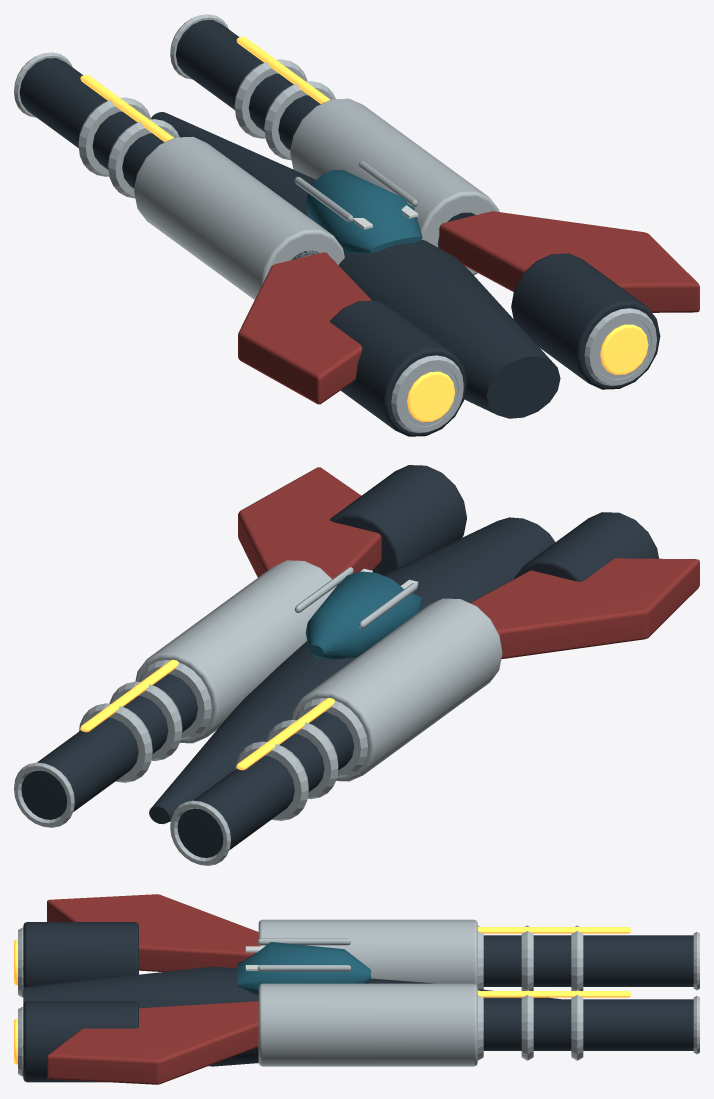
File: RailLancer.fbx
3 views of the same model, one above another, from view 1: azimuth 30°, elevation 25°; view 2: azimuth 150°, elevation 25°; view 3: azimuth 270°, elevation 25° (orthographic). The views are drawn at different scales.
Parts seen in each view (by area): view 1: Lancer center keel, Cannon cradle.016, Swept wing.021, Swept wing.020, Cannon cradle.017, Armored engine housing.010, Armored engine housing.009, Barrel shroud.017, Barrel shroud.016, Obsidian observation canopy.004, Recessed ion exhaust.010, Recessed ion exhaust.009 (+12 smaller); view 2: Cannon cradle.016, Lancer center keel, Swept wing.020, Cannon cradle.017, Swept wing.021, Barrel shroud.016, Barrel shroud.017, Armored engine housing.010, Obsidian observation canopy.004, Armored engine housing.009, Accelerator winding.004, Accelerator winding.009 (+8 smaller); view 3: Cannon cradle.017, Swept wing.021, Barrel shroud.016, Barrel shroud.017, Cannon cradle.016, Swept wing.020, Lancer center keel, Armored engine housing.009, Armored engine housing.010, Obsidian observation canopy.004, Charged rail indicator, Charged rail indicator.001 (+12 smaller).
Boxes of the visible parts, bbox=[...] form: Lancer center keel: bbox=[151, 112, 560, 418]; Cannon cradle.016: bbox=[134, 137, 344, 299]; Swept wing.021: bbox=[439, 211, 699, 312]; Swept wing.020: bbox=[238, 252, 371, 404]; Cannon cradle.017: bbox=[290, 98, 499, 274]; Armored engine housing.010: bbox=[511, 253, 660, 389]; Armored engine housing.009: bbox=[330, 300, 466, 436]; Barrel shroud.017: bbox=[175, 20, 475, 247]; Barrel shroud.016: bbox=[19, 58, 318, 259]; Obsidian observation canopy.004: bbox=[305, 169, 422, 253]; Recessed ion exhaust.010: bbox=[600, 324, 648, 374]; Recessed ion exhaust.009: bbox=[407, 371, 455, 421]; Cannon cradle.016: bbox=[291, 598, 502, 781]; Lancer center keel: bbox=[149, 517, 555, 823]; Swept wing.020: bbox=[470, 558, 699, 659]; Cannon cradle.017: bbox=[135, 560, 336, 743]; Swept wing.021: bbox=[238, 467, 381, 578]; Barrel shroud.016: bbox=[177, 712, 354, 857]; Barrel shroud.017: bbox=[21, 674, 197, 819]; Armored engine housing.010: bbox=[330, 465, 466, 575]; Obsidian observation canopy.004: bbox=[305, 571, 422, 659]; Armored engine housing.009: bbox=[514, 512, 658, 581]; Accelerator winding.004: bbox=[235, 741, 308, 820]; Accelerator winding.009: bbox=[79, 703, 152, 782]; Cannon cradle.017: bbox=[258, 983, 477, 1066]; Swept wing.021: bbox=[47, 1001, 258, 1084]; Barrel shroud.016: bbox=[483, 935, 693, 986]; Barrel shroud.017: bbox=[483, 999, 693, 1050]; Cannon cradle.016: bbox=[258, 919, 477, 986]; Swept wing.020: bbox=[47, 894, 258, 971]; Lancer center keel: bbox=[23, 966, 560, 1066]; Armored engine housing.009: bbox=[23, 922, 138, 987]; Armored engine housing.010: bbox=[23, 1001, 138, 1082]; Obsidian observation canopy.004: bbox=[237, 942, 370, 995]; Charged rail indicator: bbox=[477, 927, 630, 933]; Charged rail indicator.001: bbox=[477, 991, 630, 997].
Size of the model in its own units: 200 by 63 by 344.
